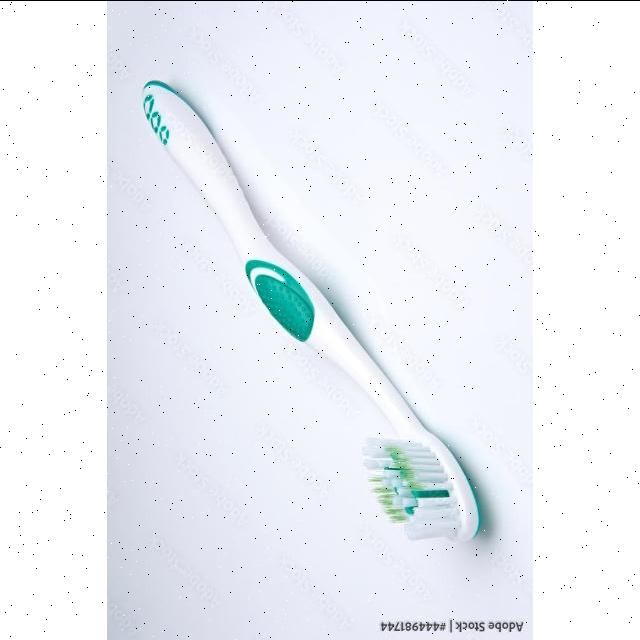toothbrush: (128, 54, 514, 576)
